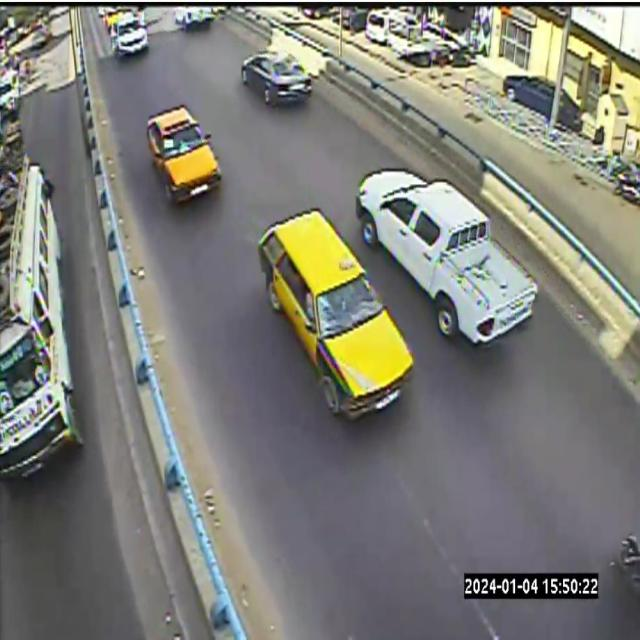car: (355, 169, 537, 344), (259, 210, 412, 417), (146, 104, 221, 200), (241, 51, 312, 105), (111, 12, 148, 57), (174, 6, 214, 30)
